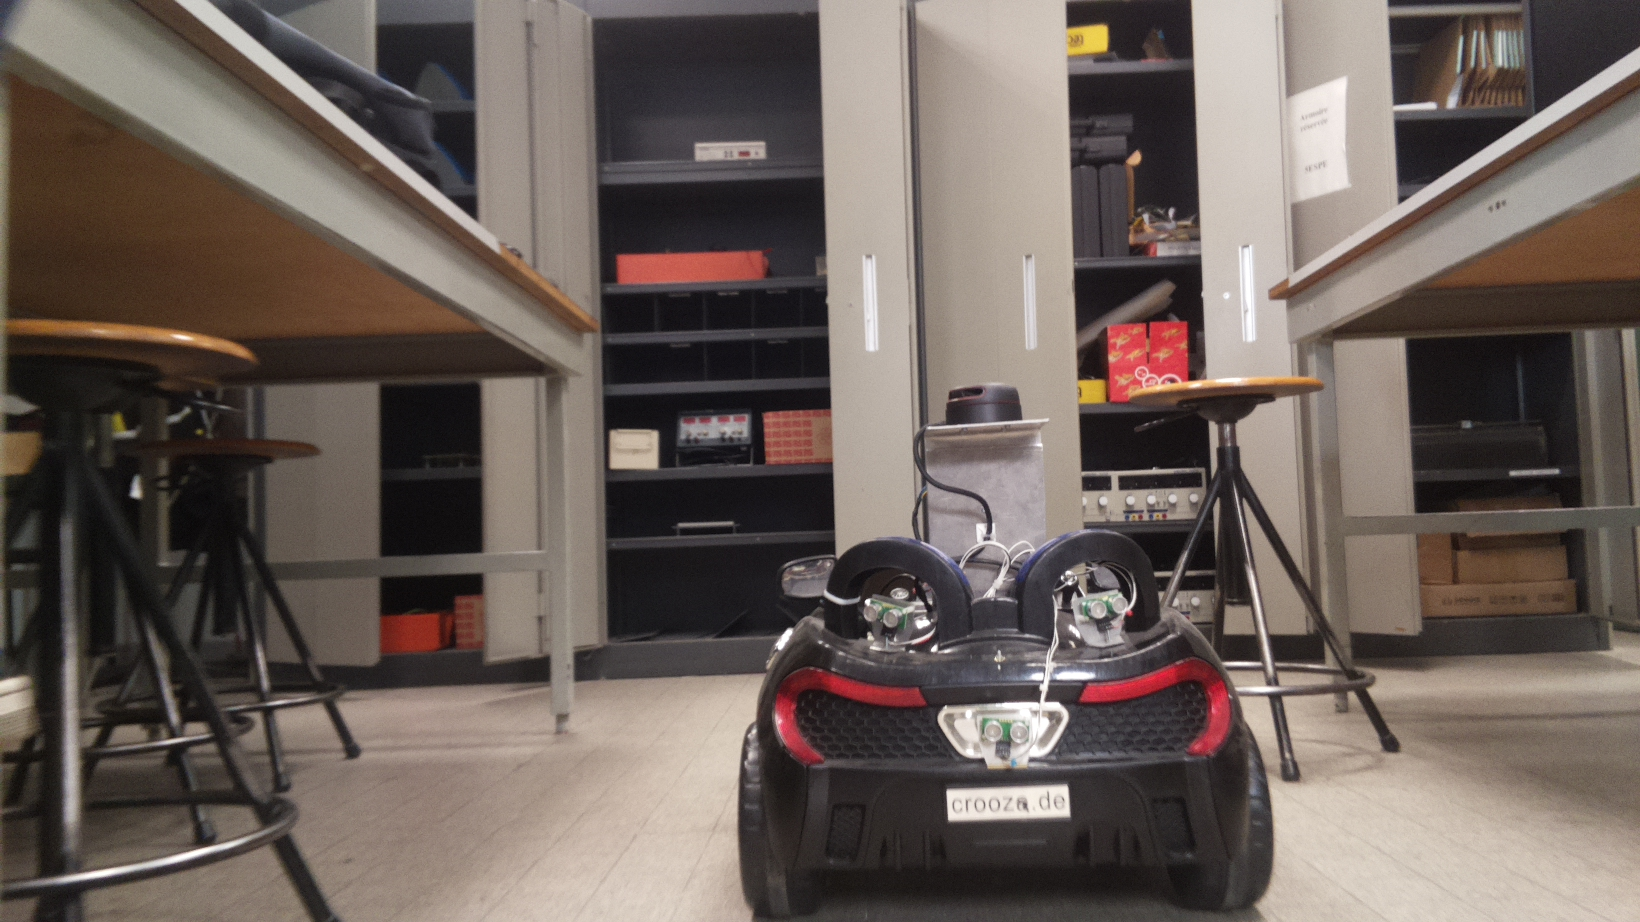big: (731, 379, 1278, 922)
